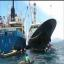fishing boat: (25, 0, 60, 53), (0, 0, 29, 57)
